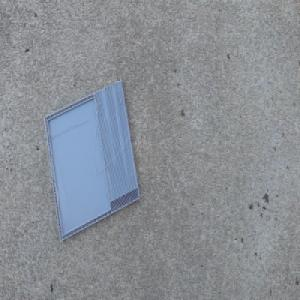PlasticPart: (43, 78, 141, 242)
